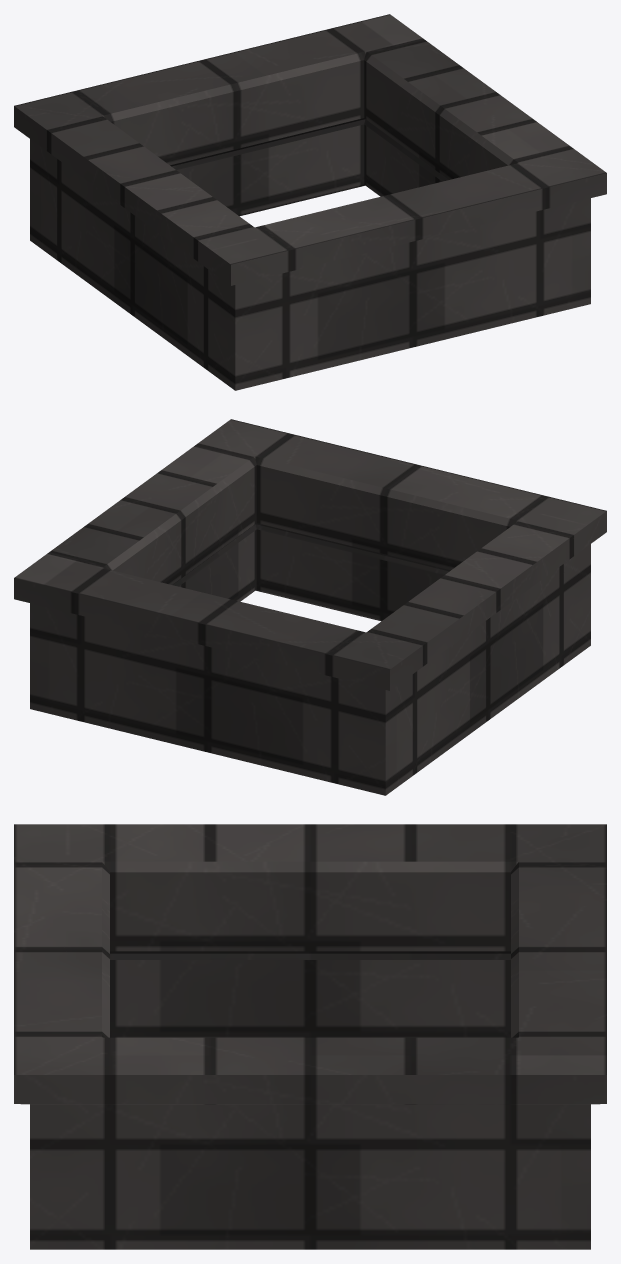
File: shaft_rim.glb
The picture shows the model from 3 angles, top to bottom: view 1: azimuth 30°, elevation 25°; view 2: azimuth 150°, elevation 25°; view 3: azimuth 270°, elevation 25°; orthographic projection. The views are drawn at different scales.
Visible parts, largest first — view 1: shaft_rim_mesh; view 2: shaft_rim_mesh; view 3: shaft_rim_mesh.
Boxes of the visible parts, x1=… form: shaft_rim_mesh: x1=14, y1=14, x2=606, y2=390; shaft_rim_mesh: x1=14, y1=419, x2=606, y2=795; shaft_rim_mesh: x1=14, y1=824, x2=606, y2=1249.
Bounding box in the file's own units: 1.48 × 0.5 × 1.48.
Materials: 1 (1 with a texture image).
